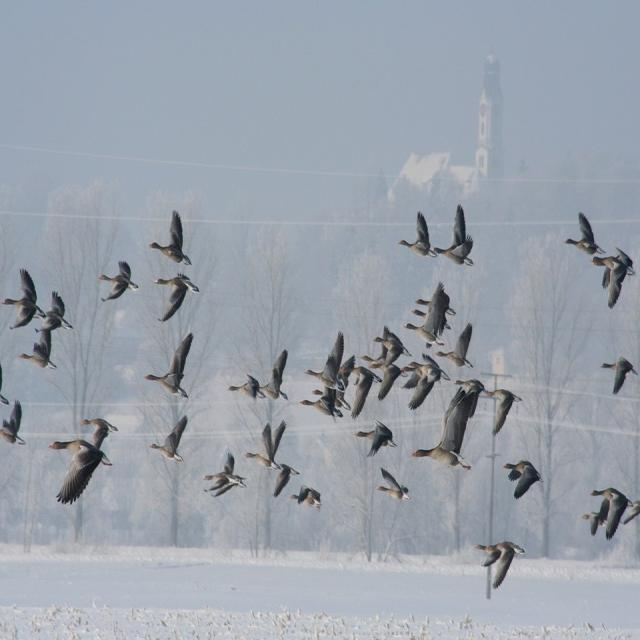bird: (410, 380, 481, 477), (51, 422, 118, 508), (472, 541, 528, 601), (3, 266, 54, 330), (145, 334, 194, 399), (303, 333, 349, 401), (482, 377, 524, 445), (583, 486, 638, 537), (243, 348, 294, 403), (405, 285, 455, 340), (592, 248, 637, 309), (148, 210, 192, 268), (434, 207, 476, 265), (429, 324, 474, 372), (156, 274, 202, 320), (147, 416, 188, 464), (204, 451, 247, 495), (563, 212, 602, 258), (98, 260, 142, 300), (398, 212, 436, 257), (504, 458, 545, 499), (299, 386, 345, 422), (368, 325, 411, 363), (246, 422, 282, 466), (18, 329, 56, 370), (355, 419, 397, 455), (601, 358, 639, 397), (377, 465, 412, 503), (0, 400, 27, 448), (271, 460, 298, 496), (289, 482, 322, 510)
